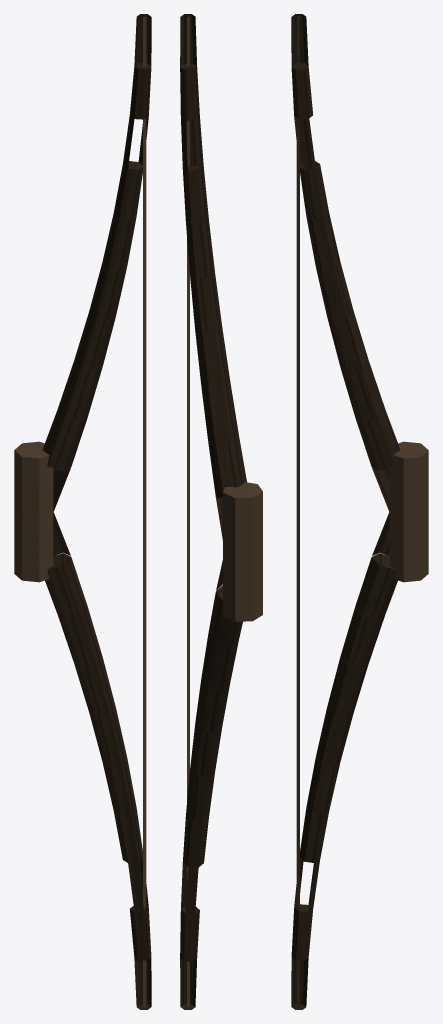
Rendered from wpn_bow_common.glb.
3 views of the same model, side by side, from view 1: azimuth 90°, elevation 25°; view 2: azimuth 210°, elevation 25°; view 3: azimuth 270°, elevation 25° (orthographic).
Parts seen in each view (by area): view 1: wpn_bow_common; view 2: wpn_bow_common; view 3: wpn_bow_common.
Part boxes in pixels (<box>): wpn_bow_common: <box>14,14,151,1009</box>; wpn_bow_common: <box>180,14,262,1009</box>; wpn_bow_common: <box>291,14,428,1009</box>.
Size of the model in its own units: 0.0585 by 1.6 by 0.201.
Materials: 2 (2 with a texture image).
